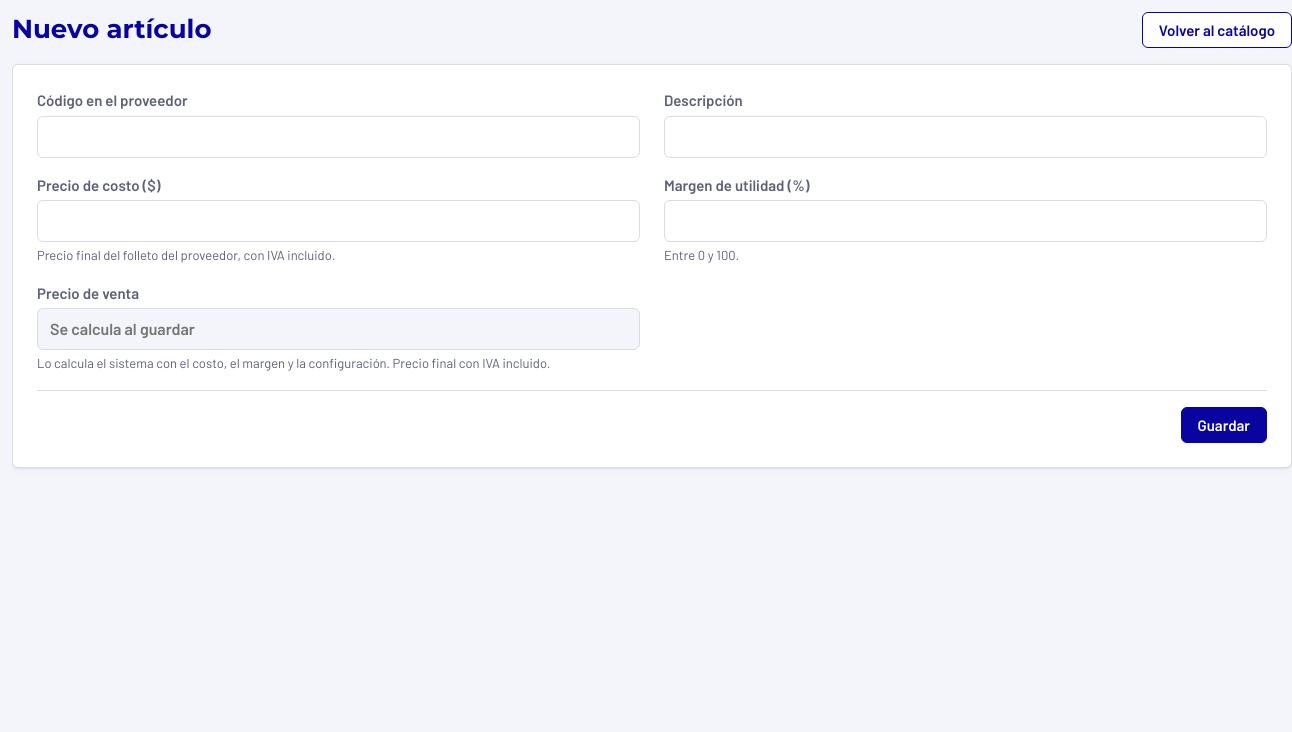
Test: formulario de artículo › valida junto a cada campo antes de enviar (RF-35)
The image size is (1292, 732).
Type "150" into the field labelled "Margen de utilidad (%)" at (966, 221), box [664,200,1267,242]
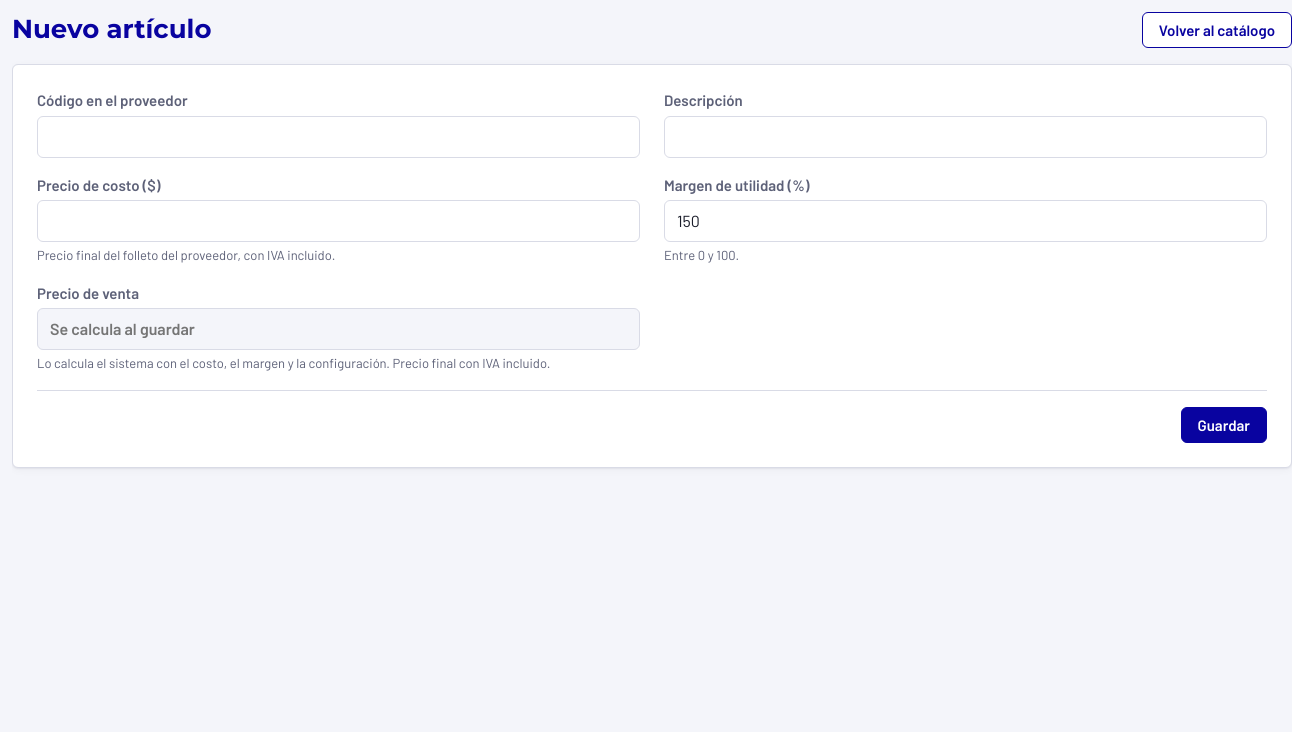
Click the button "Guardar" at (1224, 424), box [1180,406,1267,442]
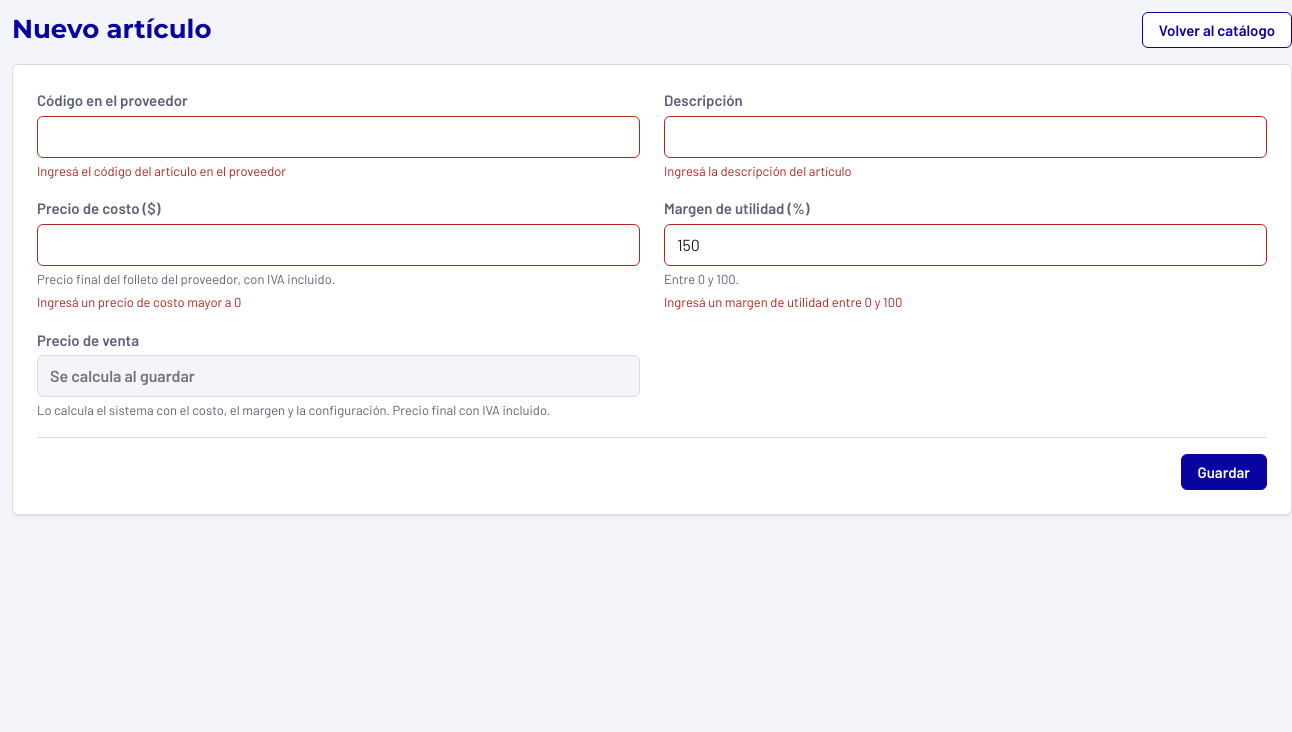
Result: the text "Ingresá el código del artículo en el proveedor" is shown at [37,162,286,178]
Result: the text "Ingresá la descripción del artículo" is shown at [664,162,852,178]
Result: the text "Ingresá un precio de costo mayor a 0" is shown at [37,294,241,310]
